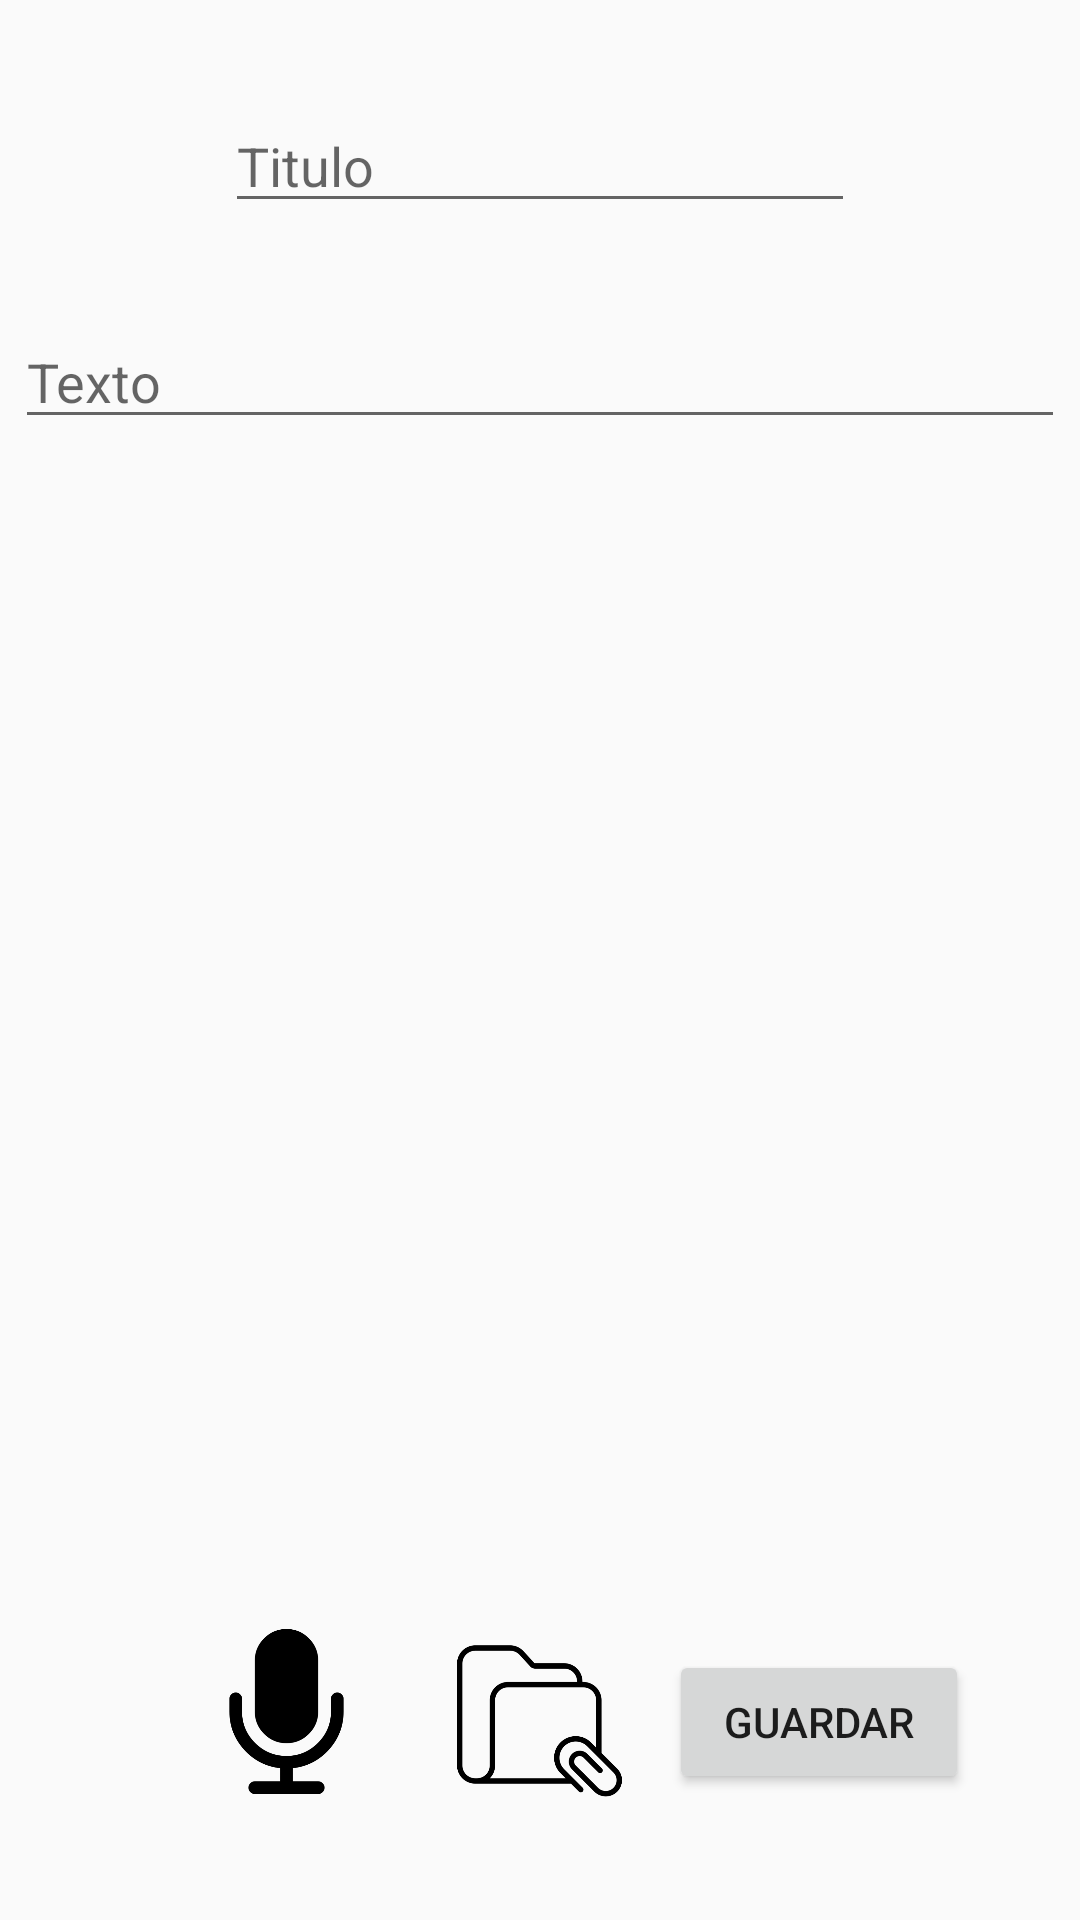

Point at icon controls on the screen. Image size 1080×1920, points as [x,y].
carpeta: [539,1721]
forma de microfono negro: [286,1711]
